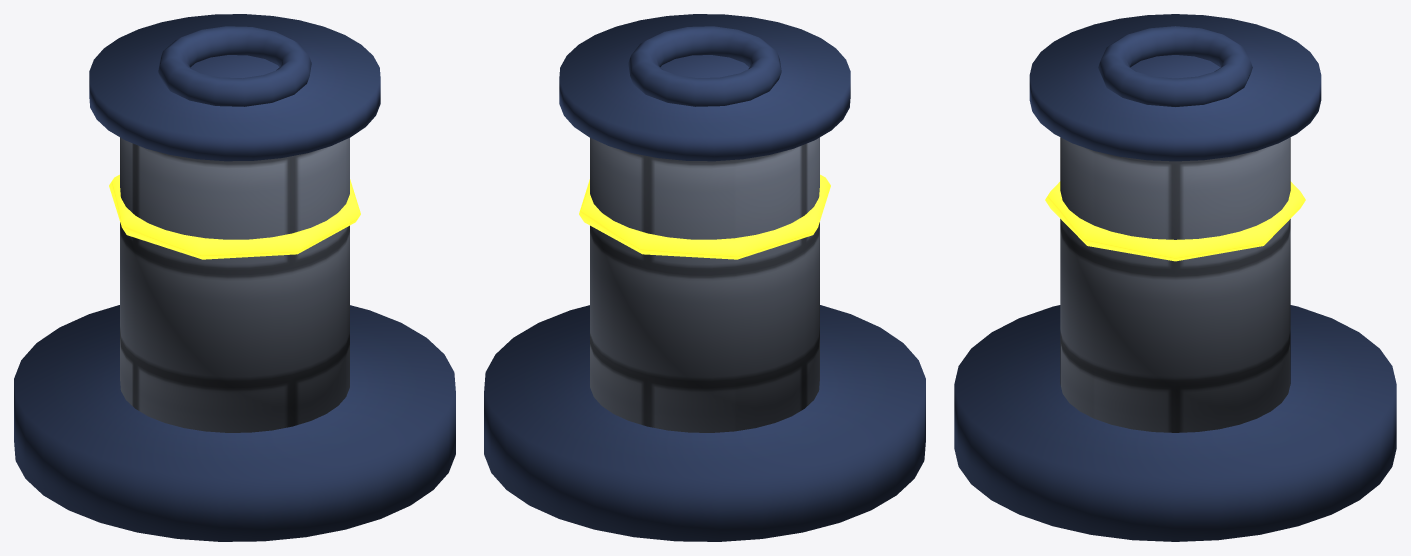
The model's file is BallDispenser.fbx.
3 renders of one model, left to right at view 1: azimuth 30°, elevation 25°; view 2: azimuth 150°, elevation 25°; view 3: azimuth 270°, elevation 25°, orthographic.
Visible parts, largest first — view 1: BallDispenser_Body; view 2: BallDispenser_Body; view 3: BallDispenser_Body.
Boxes of the visible parts, x1,y1,x2,y2 form: BallDispenser_Body: [14, 14, 455, 541]; BallDispenser_Body: [484, 14, 925, 541]; BallDispenser_Body: [954, 14, 1396, 541].
Size of the model in its own units: 1 by 0.9833 by 1.
Materials: 2 (1 with a texture image).
